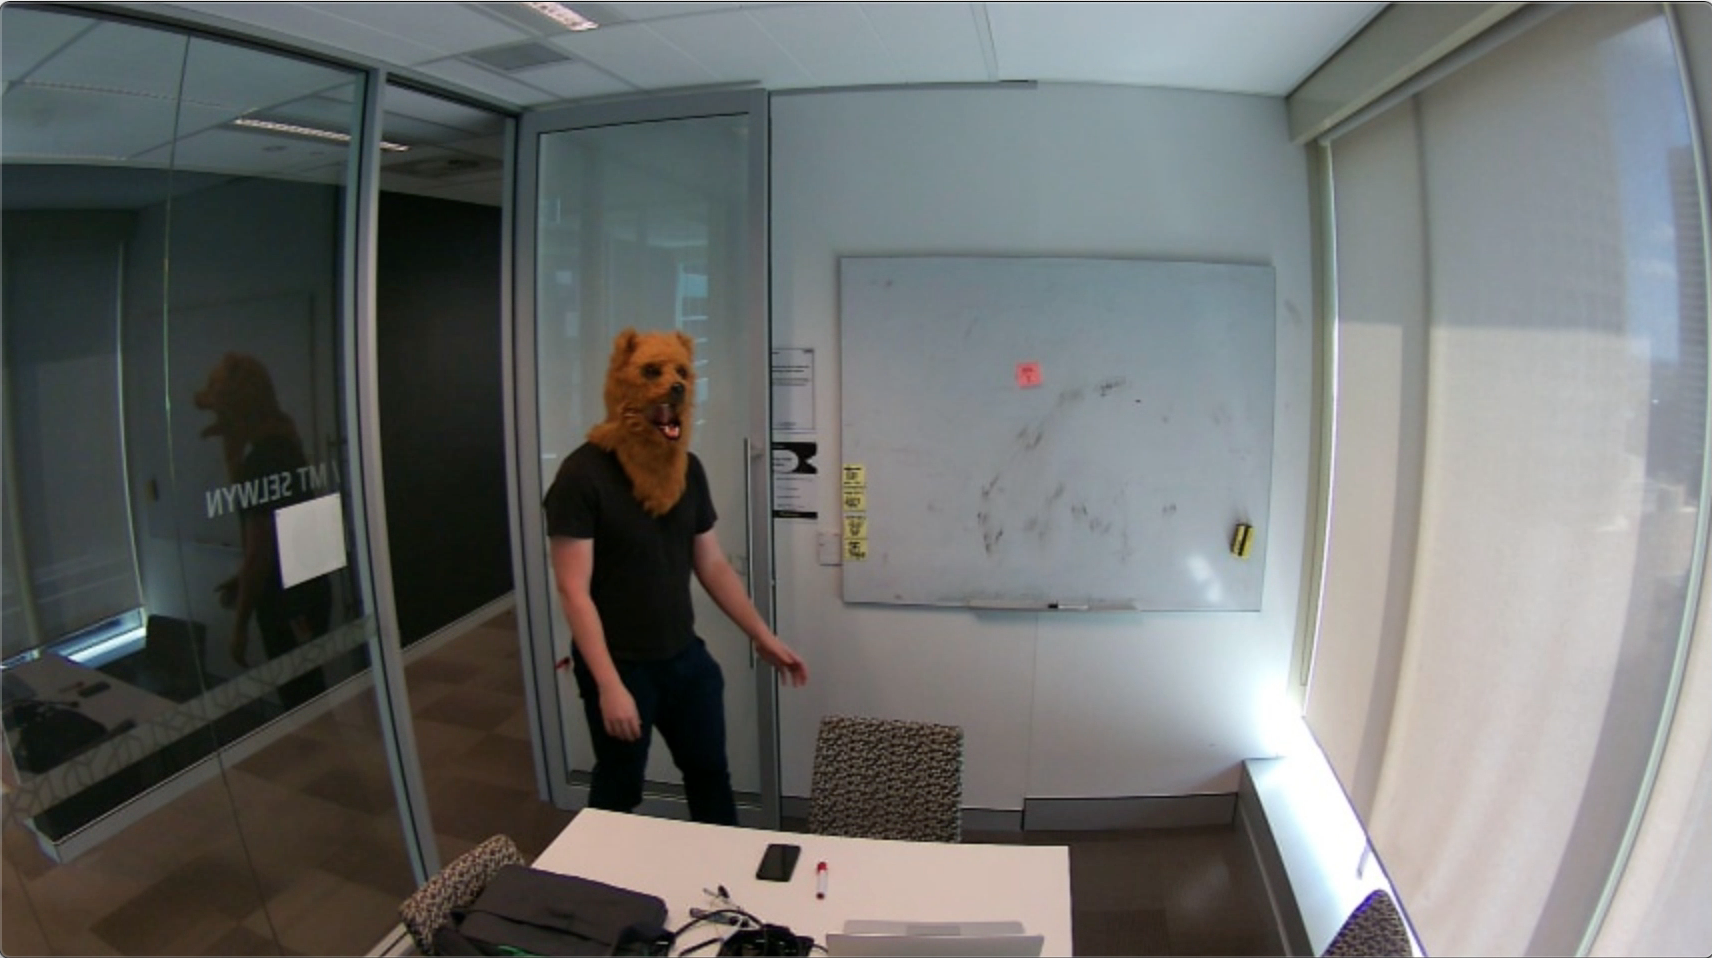Bear: (604, 323, 701, 462)
